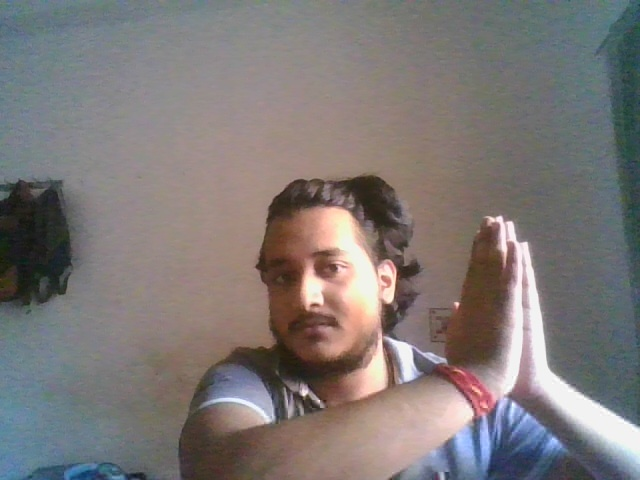ThankYou: (444, 214, 547, 381)
